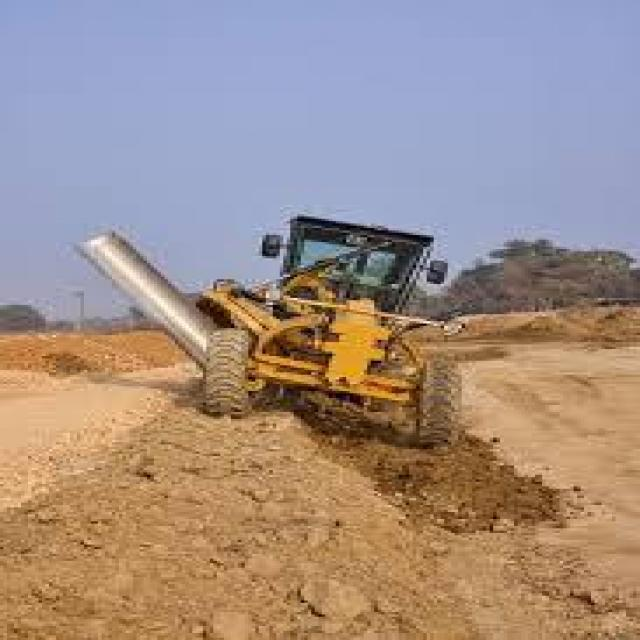Grader: (63, 200, 504, 487)
